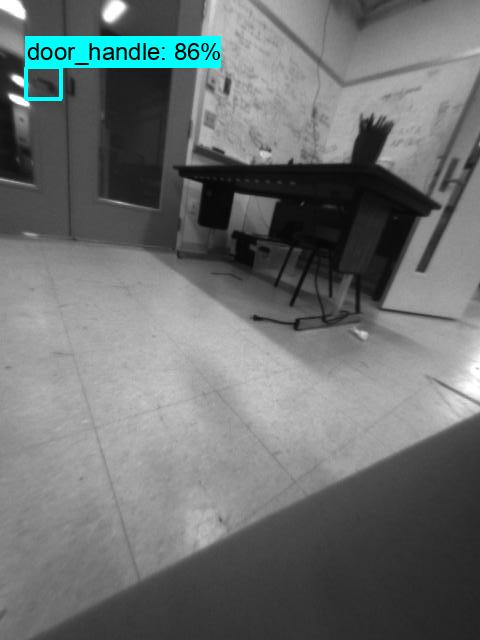door_handle: (26, 71, 61, 96)
